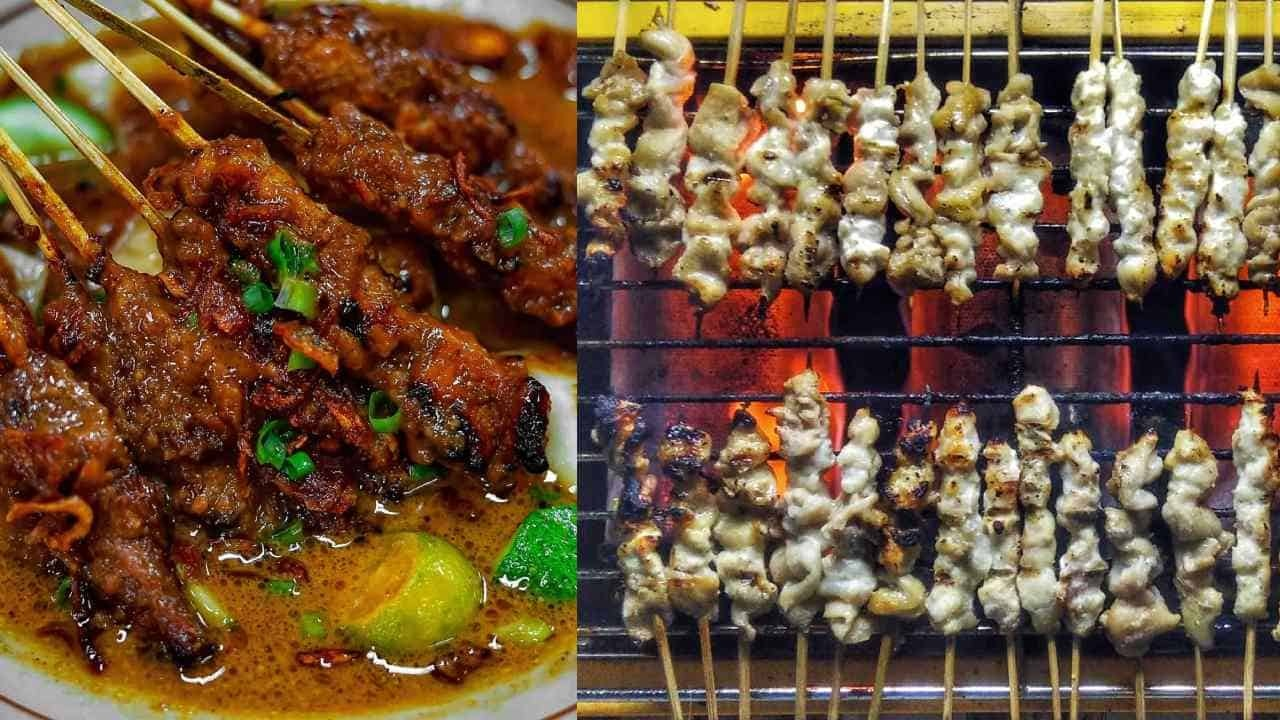sate_madura: (3, 3, 582, 669), (604, 7, 1280, 318), (601, 378, 1280, 660)
